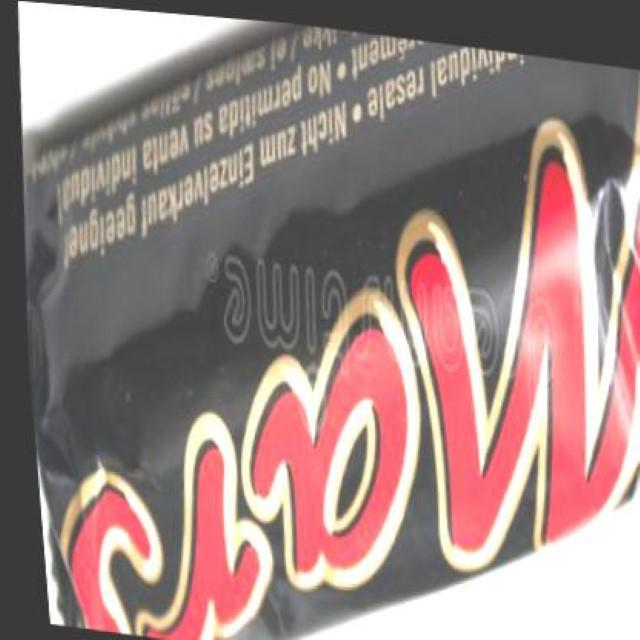mars_chocolate: (40, 145, 640, 632)
